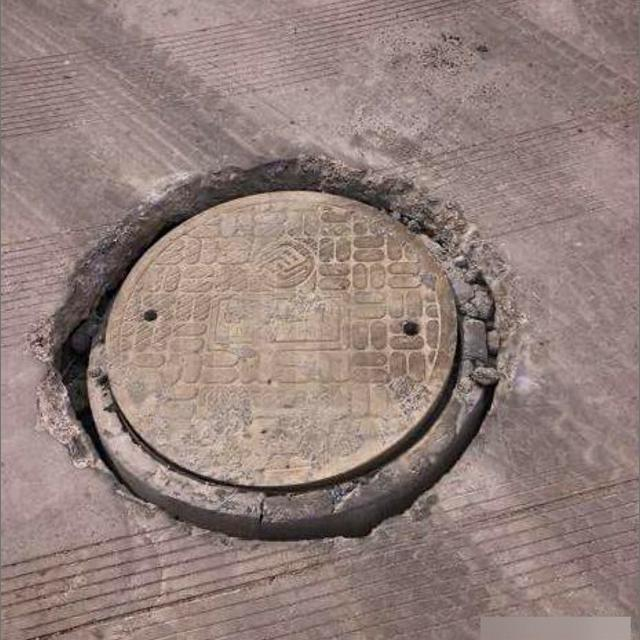circle: (55, 160, 511, 549)
